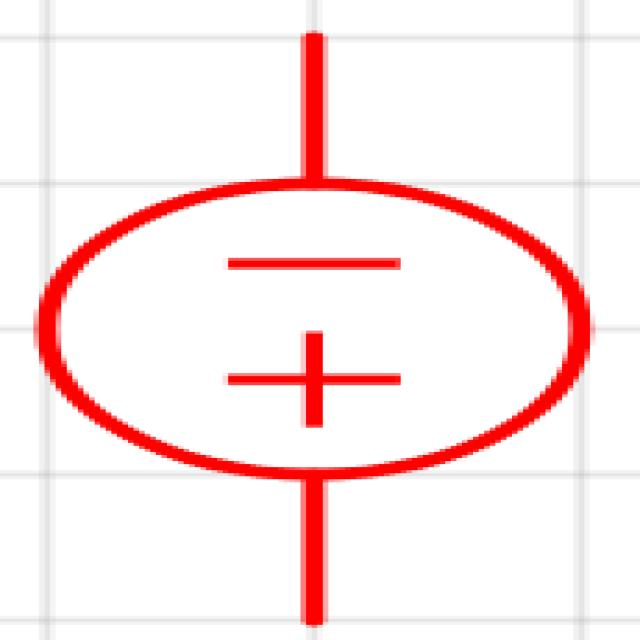vdc: (29, 10, 629, 634)
